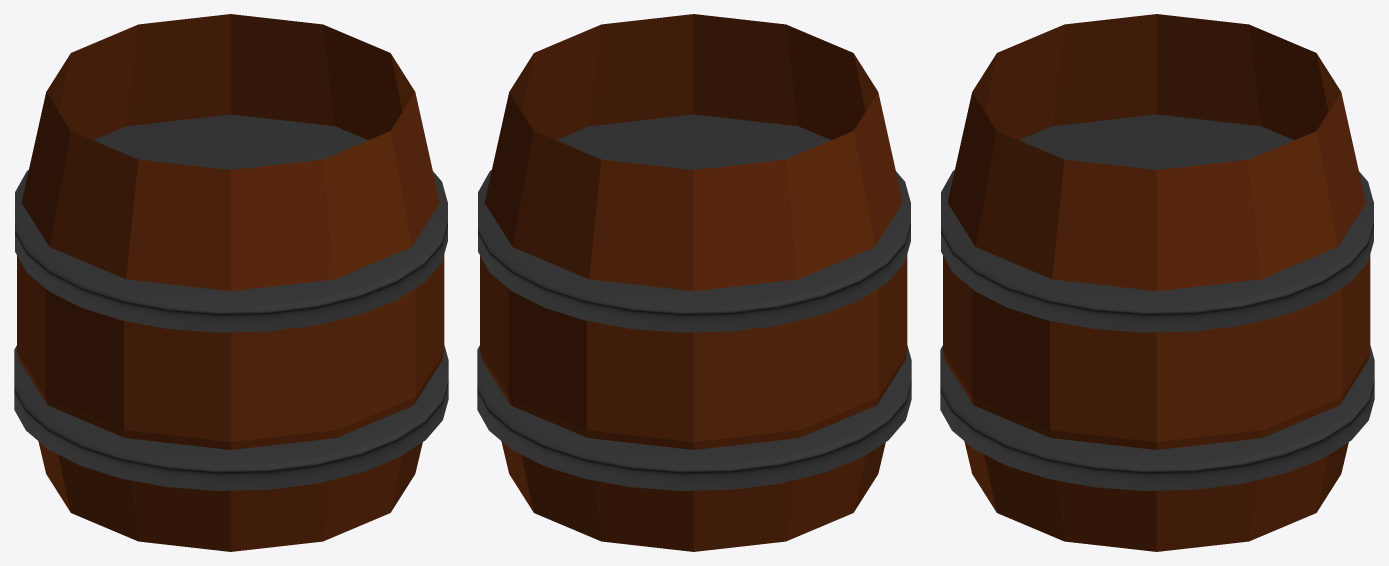
Rendered from BECZKA V2 1.fbx.
The picture shows the model from 3 angles, left to right: view 1: azimuth 30°, elevation 25°; view 2: azimuth 150°, elevation 25°; view 3: azimuth 270°, elevation 25°; orthographic projection.
Parts seen in each view (by area): view 1: Cylinder.002; view 2: Cylinder.002; view 3: Cylinder.002.
Part boxes in pixels (x1=…): Cylinder.002: x1=14, y1=14, x2=448, y2=551; Cylinder.002: x1=477, y1=14, x2=911, y2=551; Cylinder.002: x1=940, y1=14, x2=1374, y2=551.
Bounding box in the file's own units: 242 × 234 × 242.
